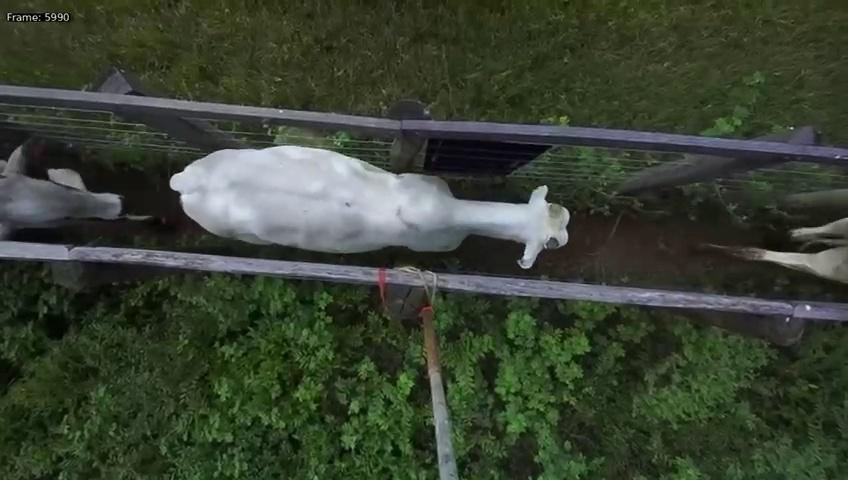cattle: (162, 123, 571, 267)
